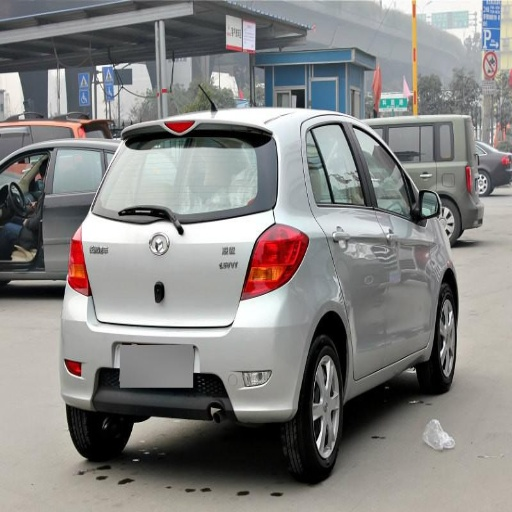back_bumper: (62, 284, 315, 421)
back_right_door: (304, 120, 394, 378)
trunk: (85, 197, 270, 328)
